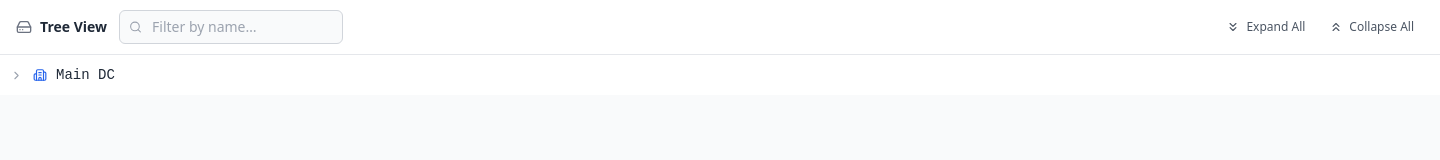
Test case: TreeView page › hides rooms when datacenter is collapsed again
Expected: the text "Main DC" is shown, [56, 67, 115, 83]
Click the button named "Expand".
click(16, 75)  # box [6, 65, 26, 85]
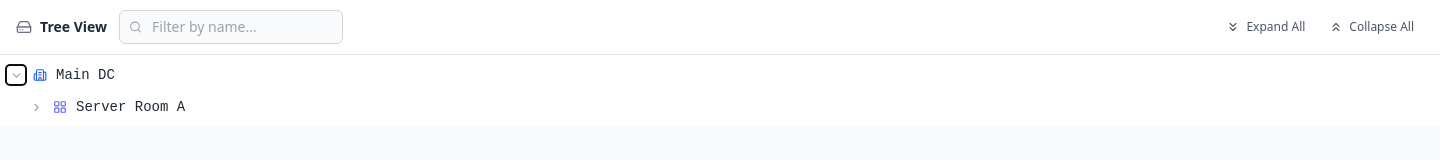
Now the text "Server Room A" is shown, box [76, 99, 185, 115]
Click the button named "Collapse".
click(16, 75)  # box [6, 65, 26, 85]
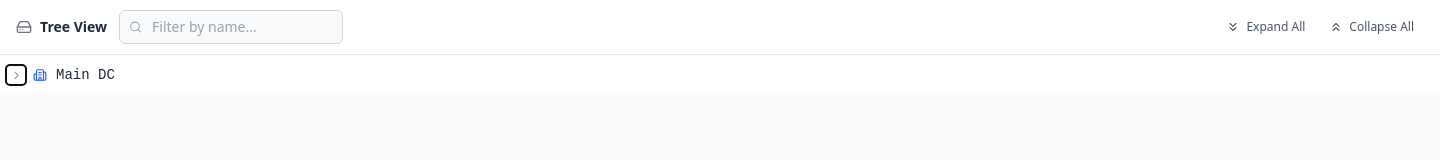
Now the text "Server Room A" is gone
